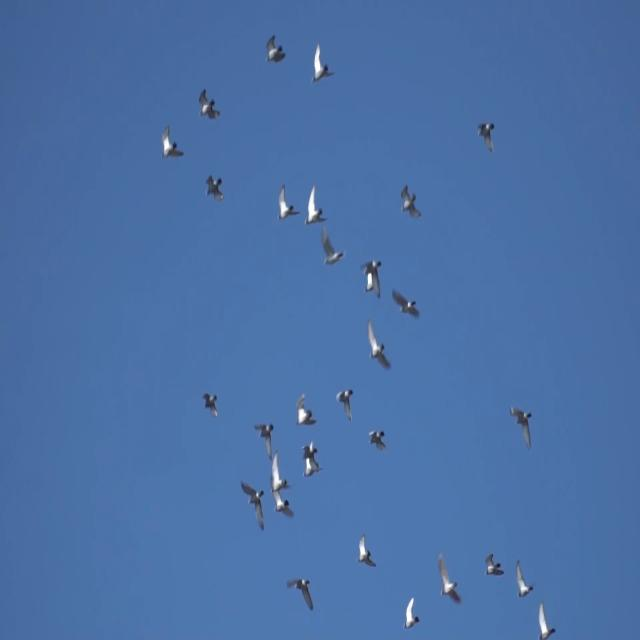bird: (236, 475, 268, 532), (362, 313, 392, 370), (289, 385, 317, 438), (436, 552, 462, 607), (389, 283, 421, 324), (509, 398, 533, 452), (262, 447, 286, 501), (309, 39, 335, 88), (285, 573, 316, 613), (195, 83, 221, 130), (358, 251, 384, 298), (302, 184, 326, 234), (156, 120, 184, 161), (296, 432, 320, 479), (317, 230, 345, 269), (362, 422, 394, 456), (274, 177, 296, 226), (354, 526, 377, 572), (252, 414, 274, 462), (396, 182, 422, 222), (513, 558, 535, 602), (474, 117, 499, 155), (262, 33, 287, 68), (536, 596, 555, 640), (482, 544, 504, 581), (272, 492, 299, 522), (401, 596, 420, 637), (198, 384, 220, 418), (202, 171, 225, 199), (334, 384, 353, 417)
